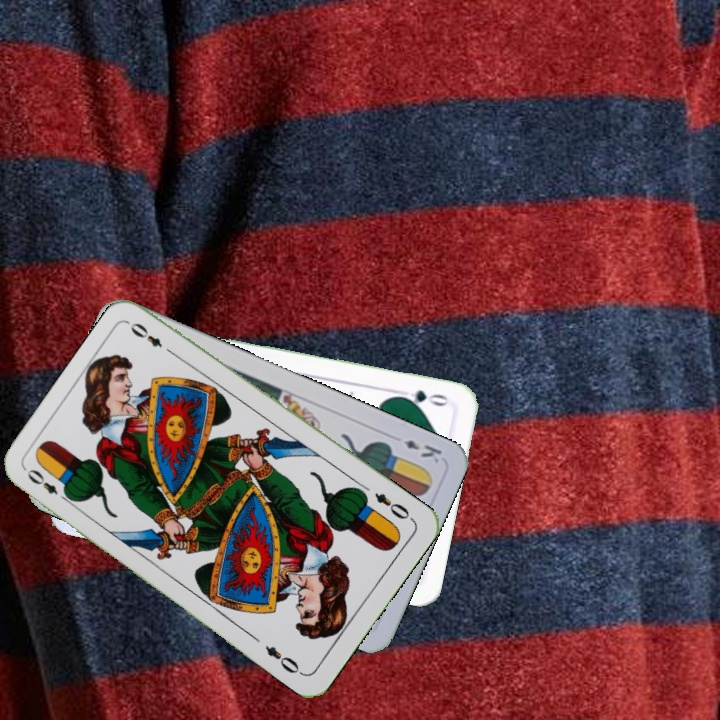EK: (400, 436, 445, 466)
EO: (22, 465, 74, 506), (370, 488, 416, 524)
GO: (393, 386, 451, 409)
